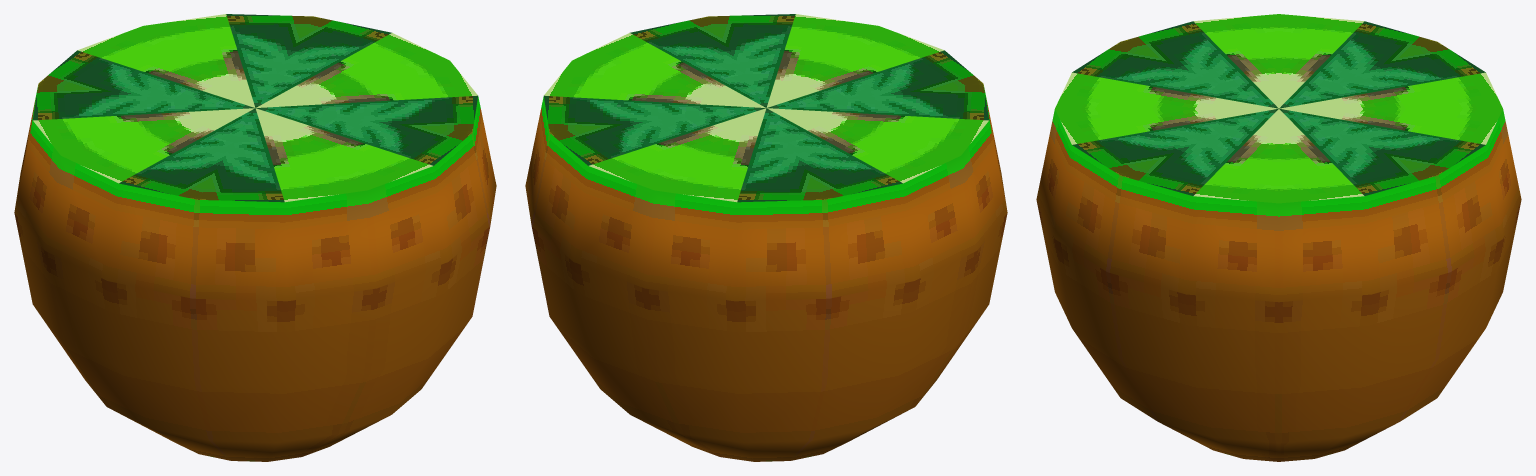
File: rmk_ctr_stool.dae
The picture shows the model from 3 angles, left to right: view 1: azimuth 30°, elevation 25°; view 2: azimuth 150°, elevation 25°; view 3: azimuth 270°, elevation 25°; orthographic projection.
Parts seen in each view (by area): view 1: rmk_ctr_stool; view 2: rmk_ctr_stool; view 3: rmk_ctr_stool.
Boxes of the visible parts, bbox=[...] form: rmk_ctr_stool: bbox=[14, 14, 496, 461]; rmk_ctr_stool: bbox=[525, 14, 1007, 461]; rmk_ctr_stool: bbox=[1036, 14, 1521, 461].
Bounding box in the file's own units: 22.4 × 16 × 22.4.
1 material, 1 textured.
